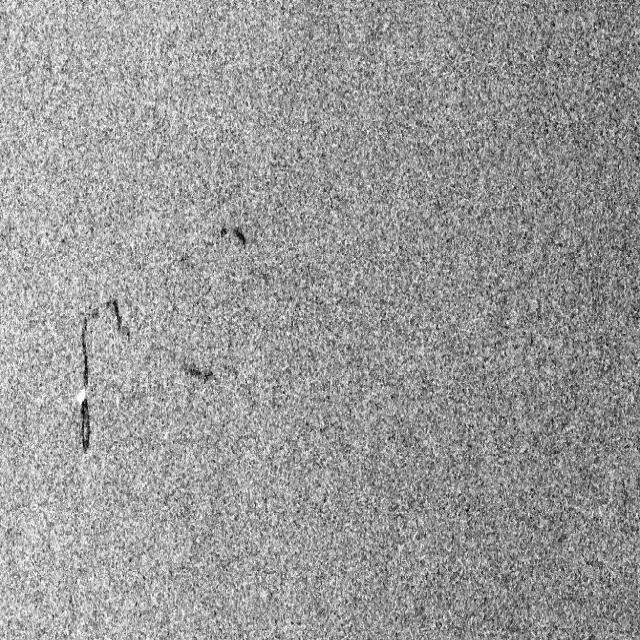oil-spill: (179, 348, 223, 393), (214, 212, 254, 252), (102, 294, 132, 342), (79, 311, 96, 386), (80, 404, 94, 454)
ship: (72, 388, 88, 404)
